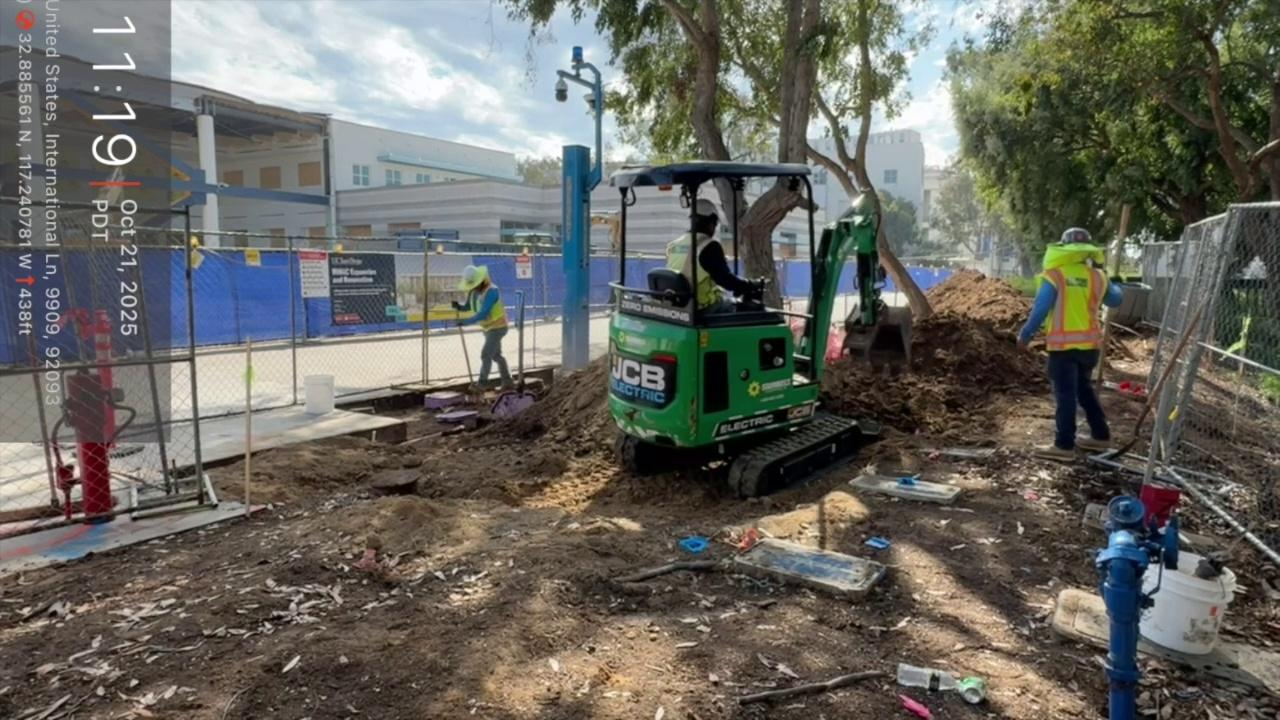Exacavator: (602, 158, 902, 500)
